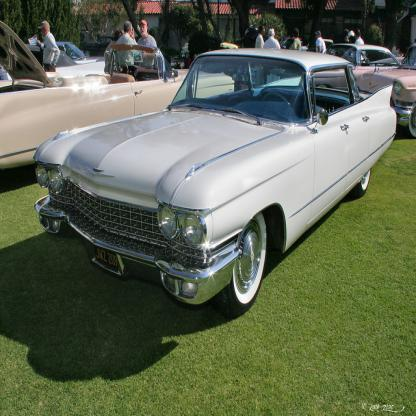Car: (0, 19, 415, 321)
